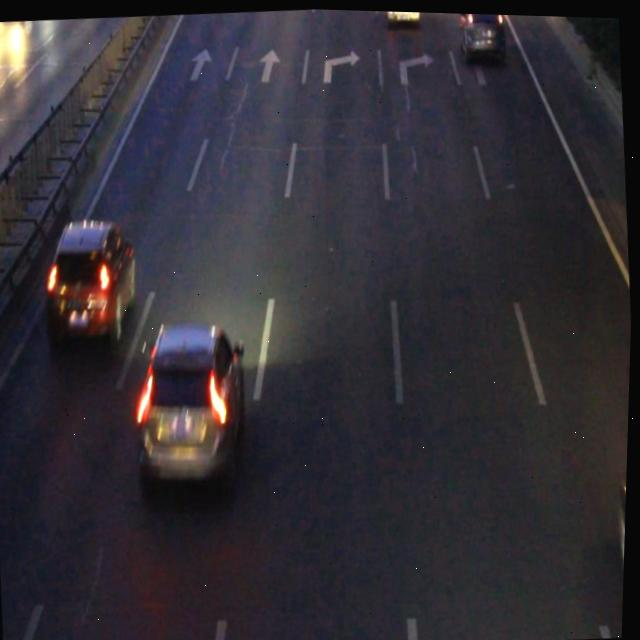car: (130, 318, 253, 482), (43, 218, 141, 341), (454, 11, 503, 59), (617, 459, 630, 632), (384, 9, 418, 20)
